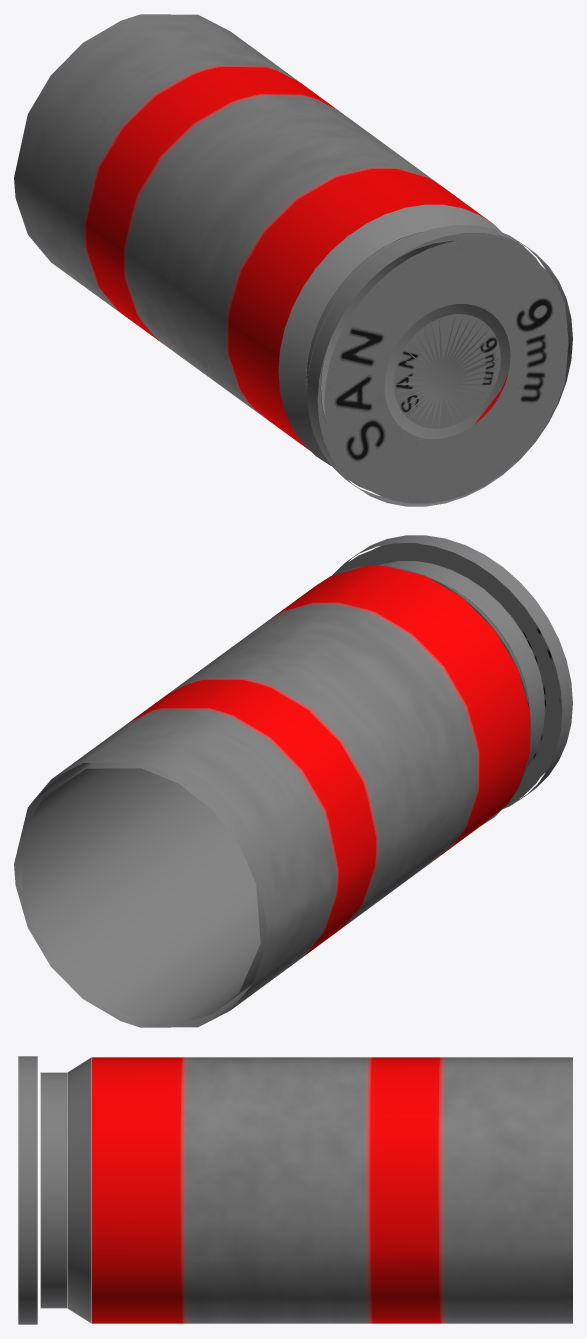
Rendered from bulletShell.FBX.
The picture shows the model from 3 angles, top to bottom: view 1: azimuth 30°, elevation 25°; view 2: azimuth 150°, elevation 25°; view 3: azimuth 270°, elevation 25°; orthographic projection. The views are drawn at different scales.
Parts seen in each view (by area): view 1: BulletMesh; view 2: BulletMesh; view 3: BulletMesh.
Boxes of the visible parts, x1,y1,x2,y2 form: BulletMesh: (14, 14, 572, 506); BulletMesh: (14, 535, 572, 1027); BulletMesh: (18, 1056, 572, 1324).
Bounding box in the file's own units: 208 × 208 × 434.
